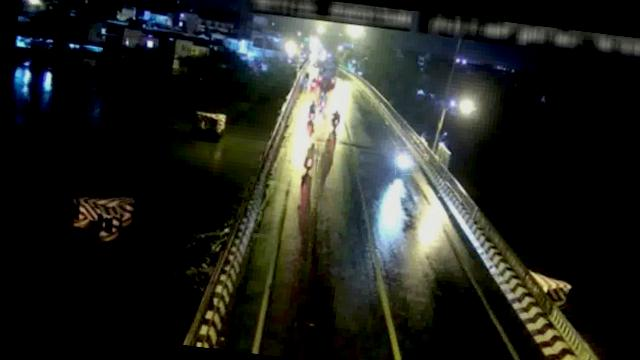Bike: (300, 139, 320, 172), (393, 146, 415, 176), (329, 105, 342, 134), (306, 98, 318, 121)
